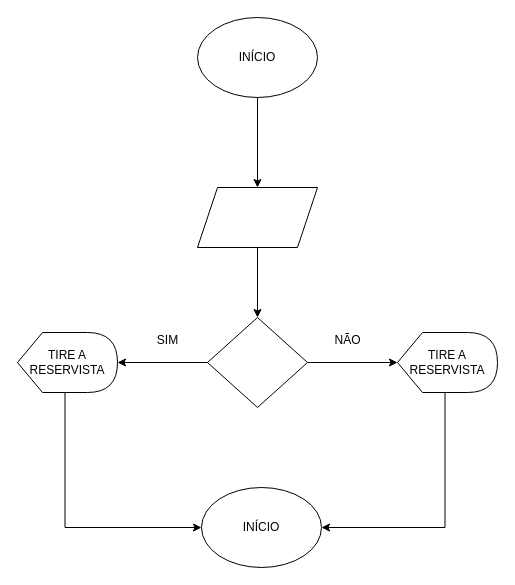
The diagram is 515 pixels wide and 585 high, and some of its shapes have lost their labels. Here are the shapes that lost their labels. From the top down, the box of each, then its label:
(196, 186, 318, 248): IDADE
(206, 316, 308, 408): TEM 18 ANOS?
